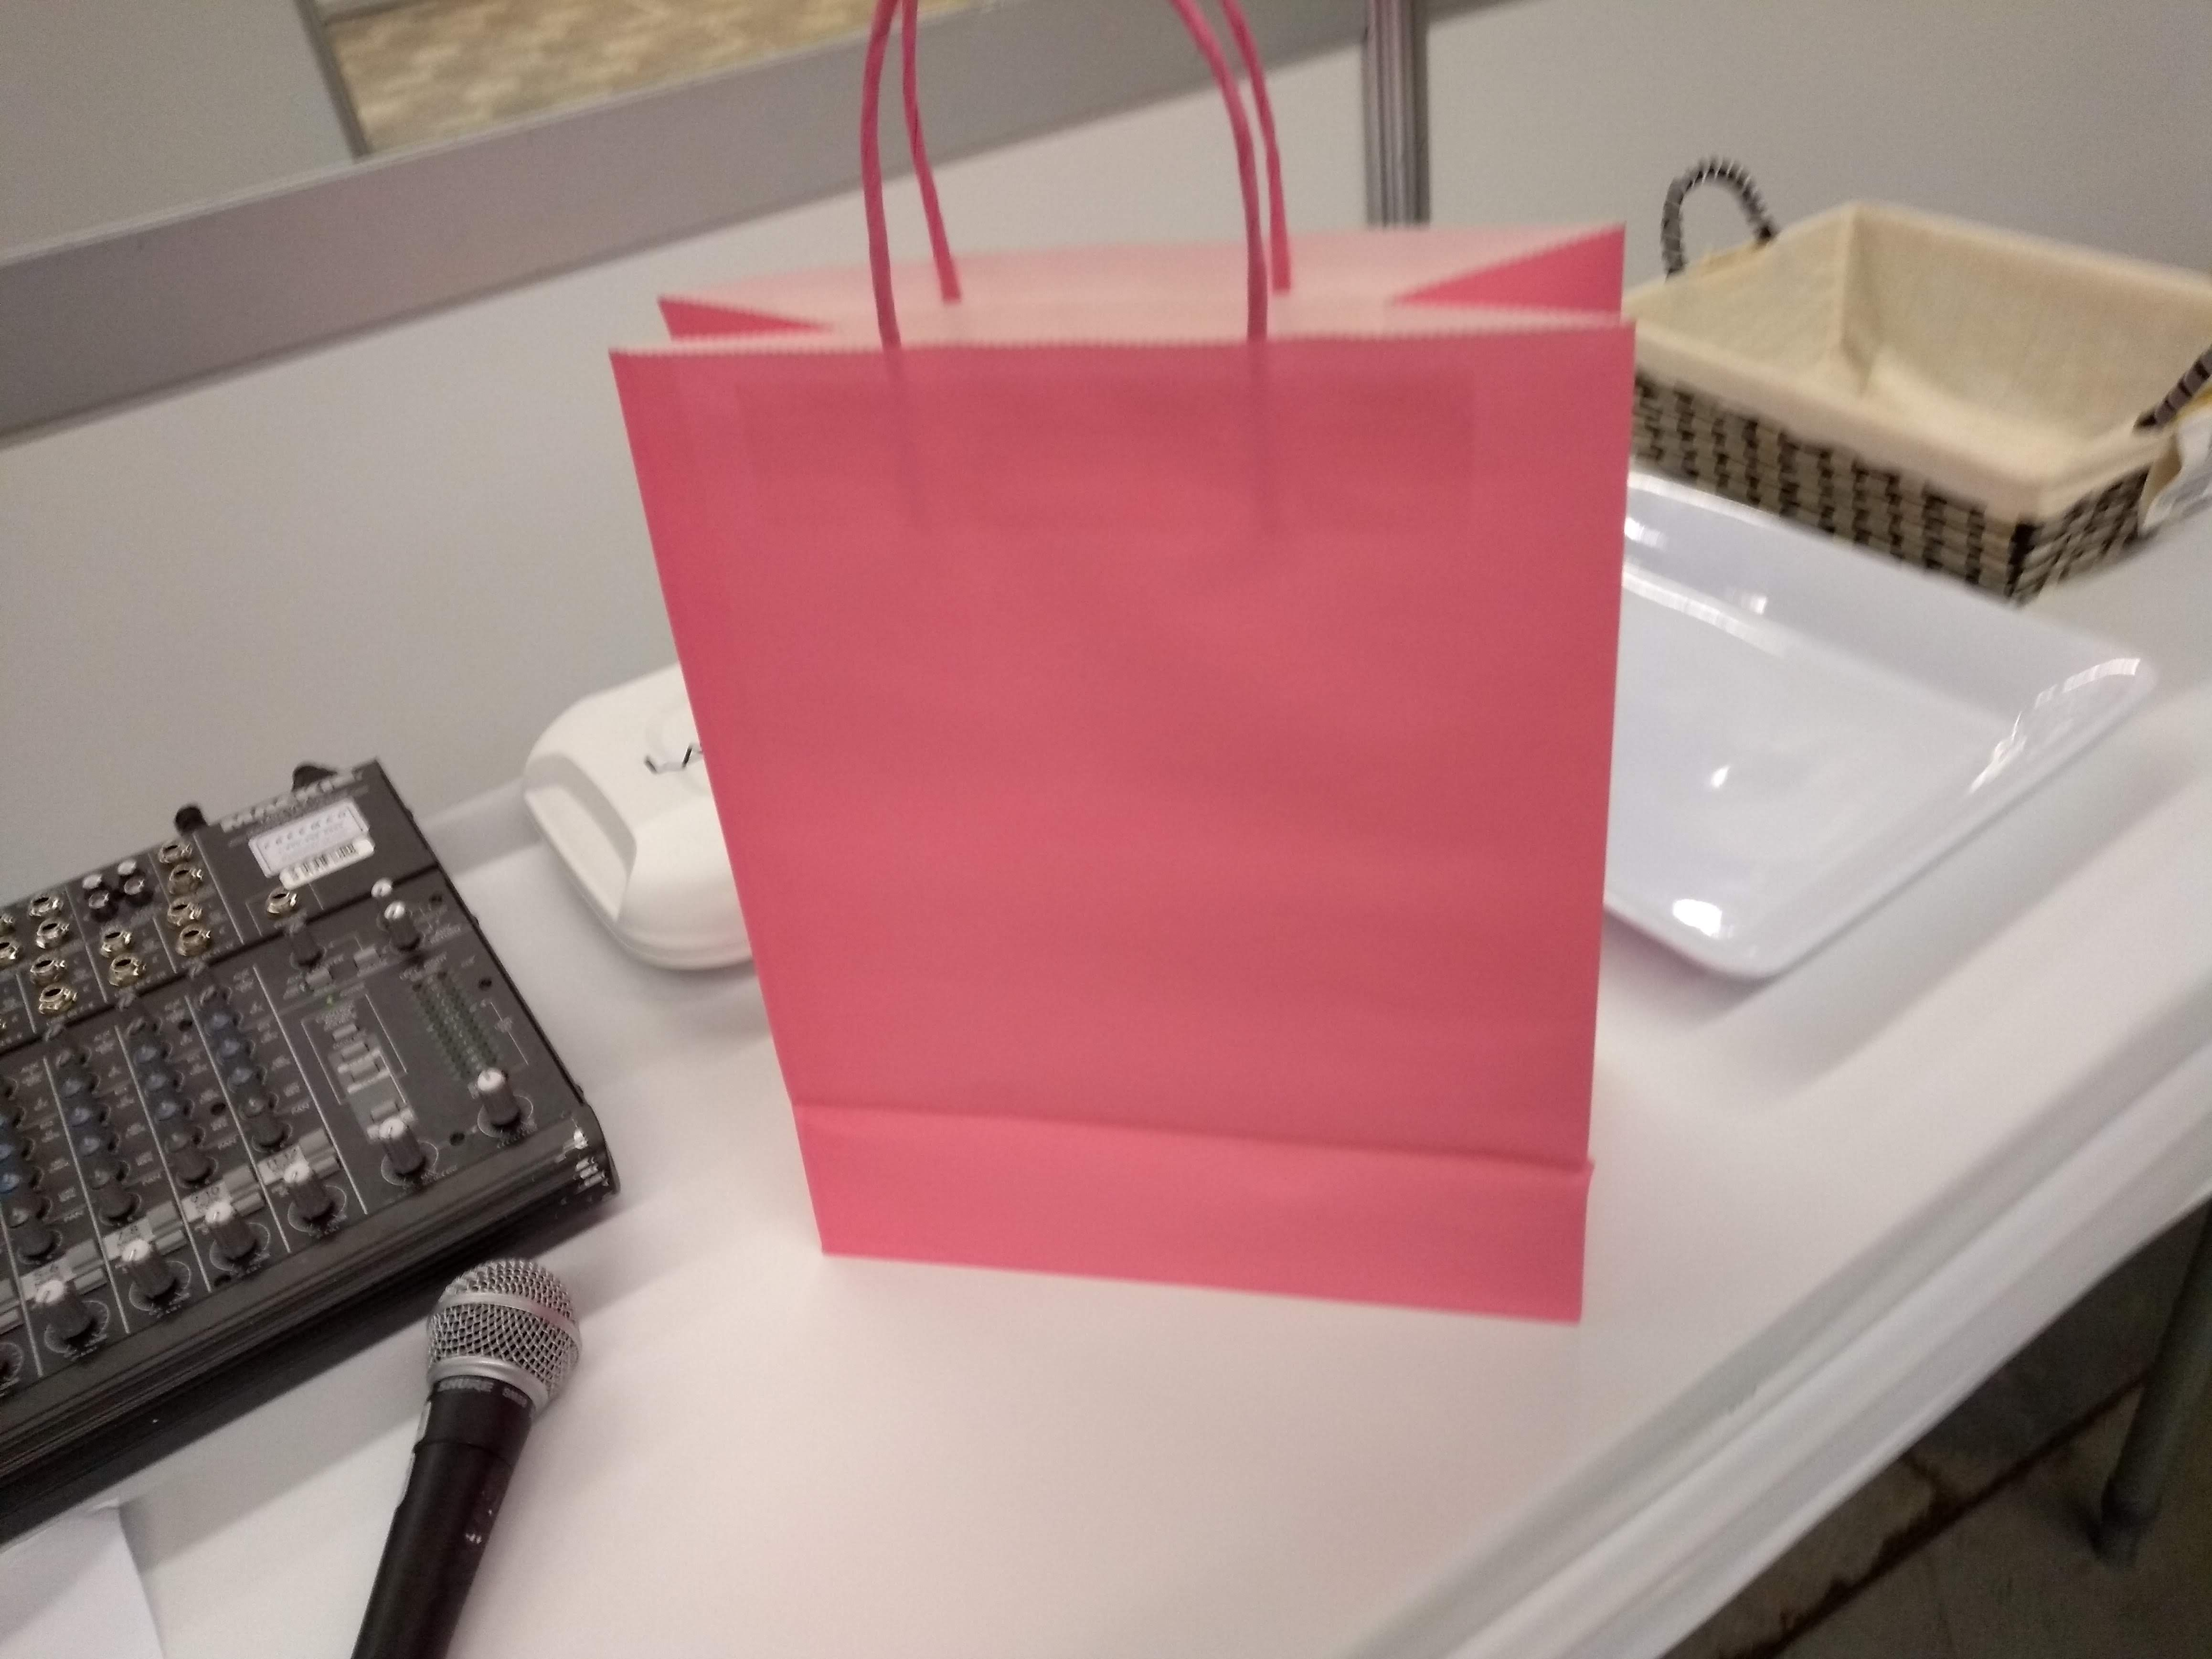basket: (1622, 164, 2205, 620)
help_me_carry_opl: (613, 0, 1653, 1321)
tray: (1613, 476, 2167, 1011)
